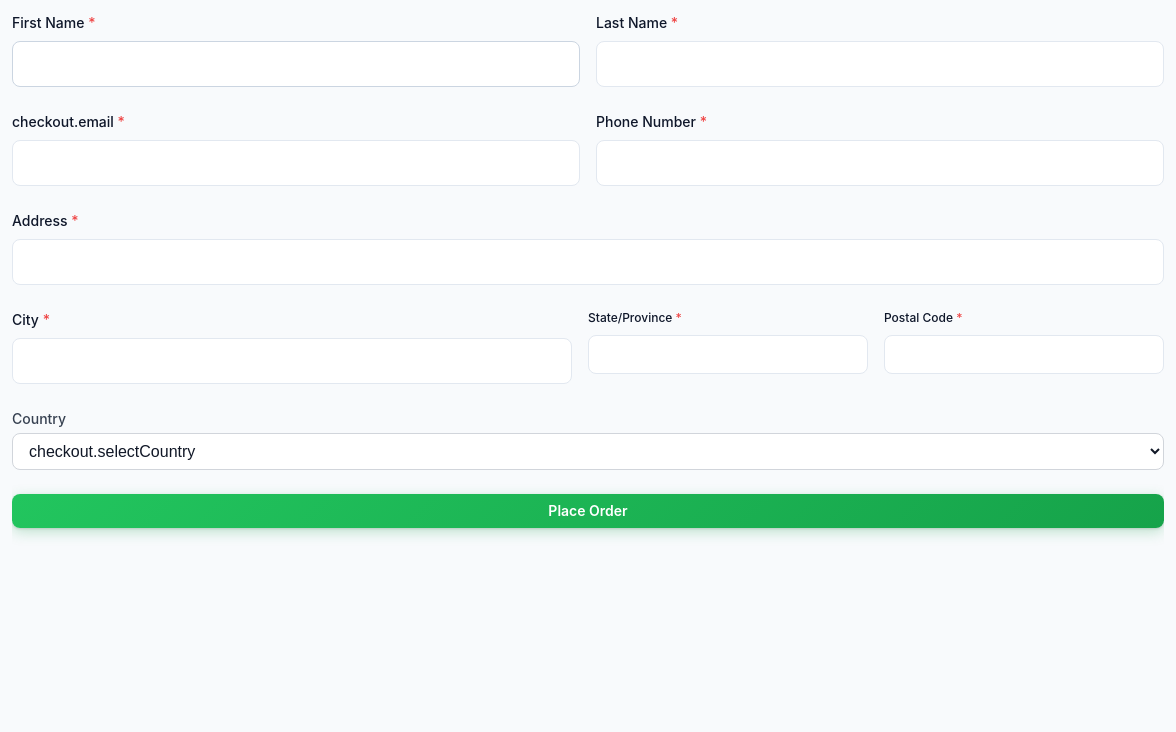
Scenario: CheckoutForm › shows required error for each empty field on submit
Click the button "Place Order": x=588, y=511 [12,494,1164,528]
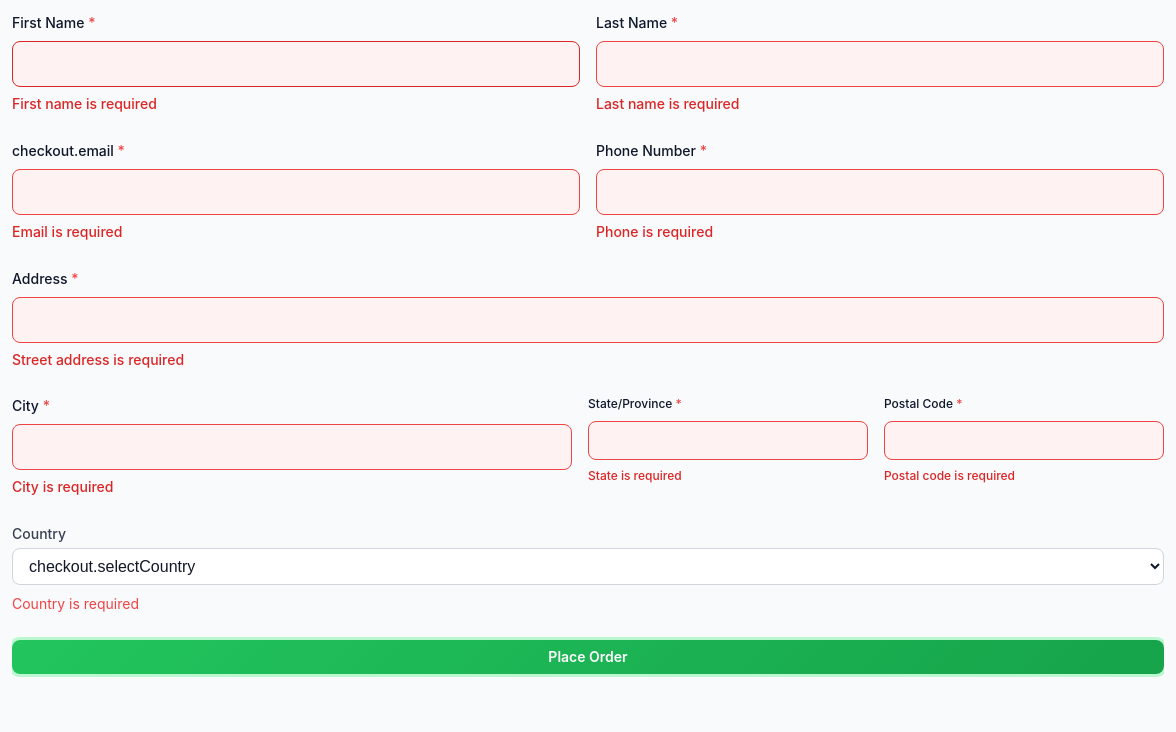
Expected: the text "First name is required" is shown, [12,95,157,112]
Expected: the text "Last name is required" is shown, [596,95,740,112]
Expected: the text "Email is required" is shown, [12,223,122,240]
